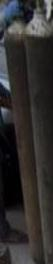cylinder: (1, 1, 53, 264)
